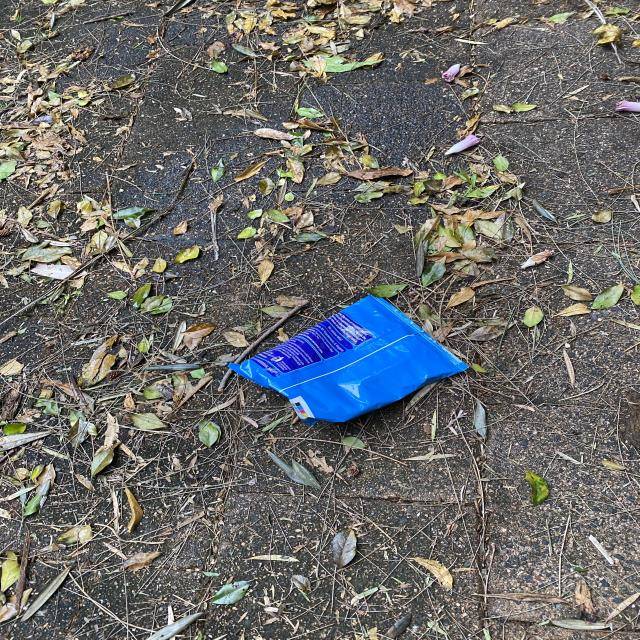bag: (228, 294, 470, 426)
